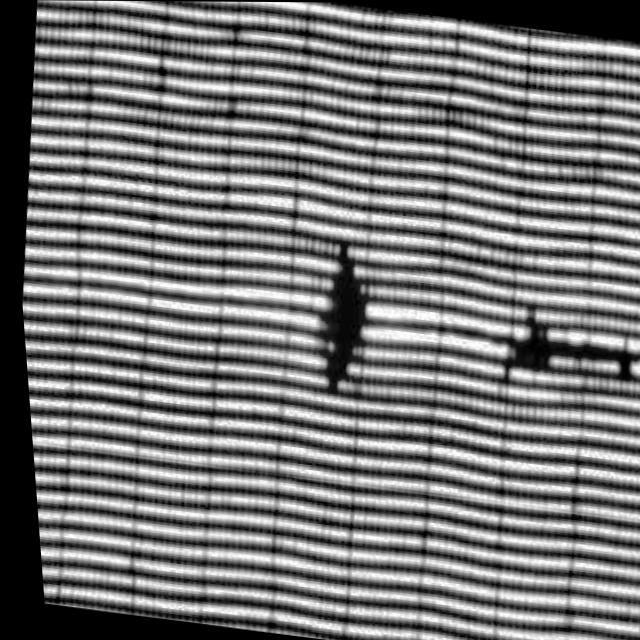Hole: (279, 222, 395, 420)
Stitch: (469, 286, 640, 415)
